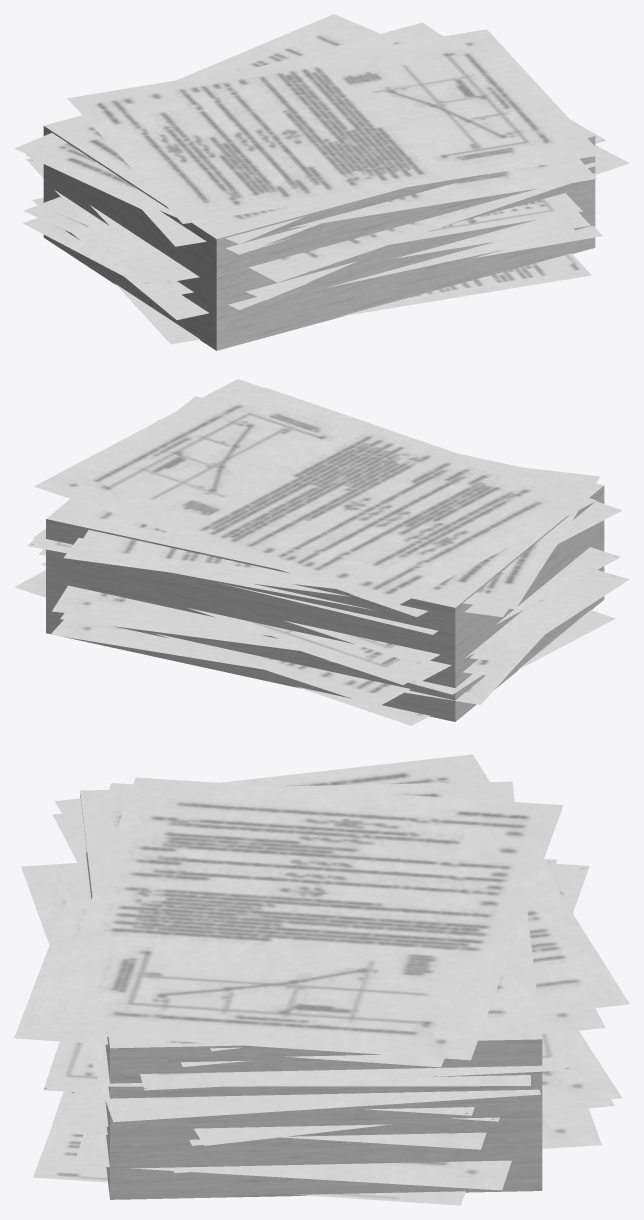
File: paper_set.dae
3 views of the same model, one above another, from view 1: azimuth 30°, elevation 25°; view 2: azimuth 150°, elevation 25°; view 3: azimuth 270°, elevation 25° (orthographic). The views are drawn at different scales.
Parts seen in each view (by area): view 1: Object_2.002_Object_0.001; view 2: Object_2.002_Object_0.001; view 3: Object_2.002_Object_0.001.
Part boxes in pixels (x1,y1,x2,y2): Object_2.002_Object_0.001: (14, 14, 629, 350); Object_2.002_Object_0.001: (14, 379, 629, 725); Object_2.002_Object_0.001: (14, 754, 629, 1205).
Bounding box in the file's own units: 7.88 × 6.41 × 1.79.
Materials: 1 (1 with a texture image).
